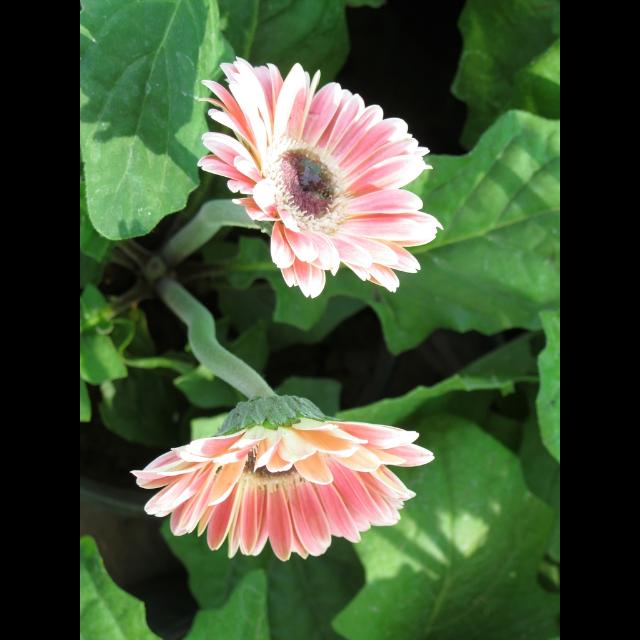Flower: (191, 62, 439, 300), (128, 395, 436, 563)
